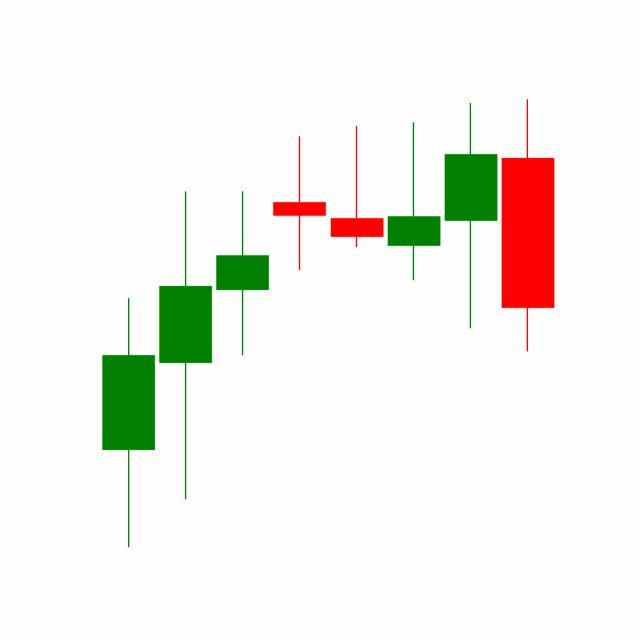Three Outside Up-Down: (328, 101, 500, 332)
